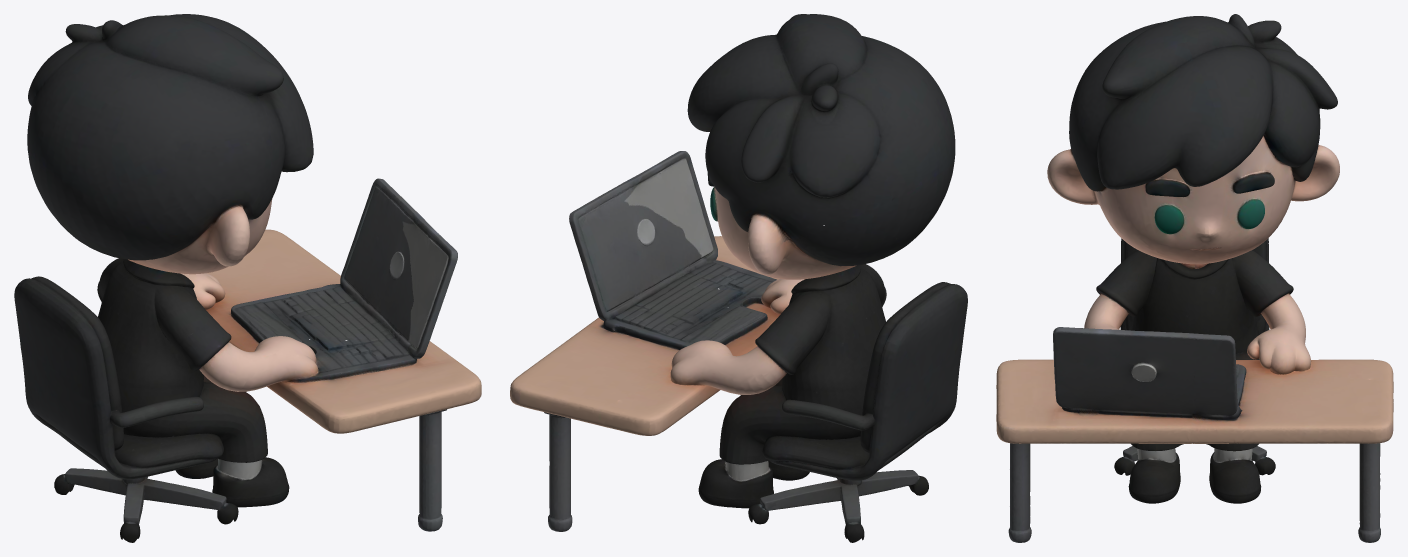
The model's file is desktop.glb.
The picture shows the model from 3 angles, left to right: view 1: azimuth 30°, elevation 25°; view 2: azimuth 150°, elevation 25°; view 3: azimuth 270°, elevation 25°; orthographic projection. The views are drawn at different scales.
Parts seen in each view (by area): view 1: tripo_node_4d311716-dbf7-4c82-bd9c-ff8eabb20dba; view 2: tripo_node_4d311716-dbf7-4c82-bd9c-ff8eabb20dba; view 3: tripo_node_4d311716-dbf7-4c82-bd9c-ff8eabb20dba.
Part boxes in pixels (x1,y1,x2,y2): tripo_node_4d311716-dbf7-4c82-bd9c-ff8eabb20dba: (14,14,481,542); tripo_node_4d311716-dbf7-4c82-bd9c-ff8eabb20dba: (510,14,967,542); tripo_node_4d311716-dbf7-4c82-bd9c-ff8eabb20dba: (996,14,1393,542).
Size of the model in its own units: 0.7796 by 1 by 0.8166.
1 material, 1 textured.
